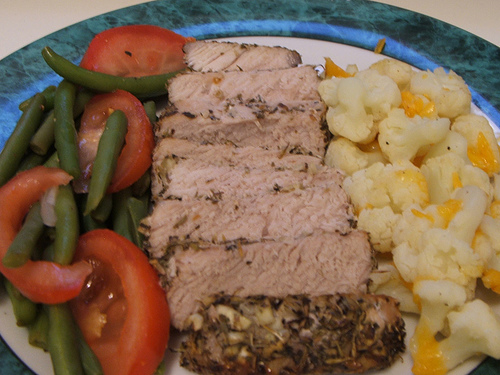cauliflower: (319, 56, 499, 374)
